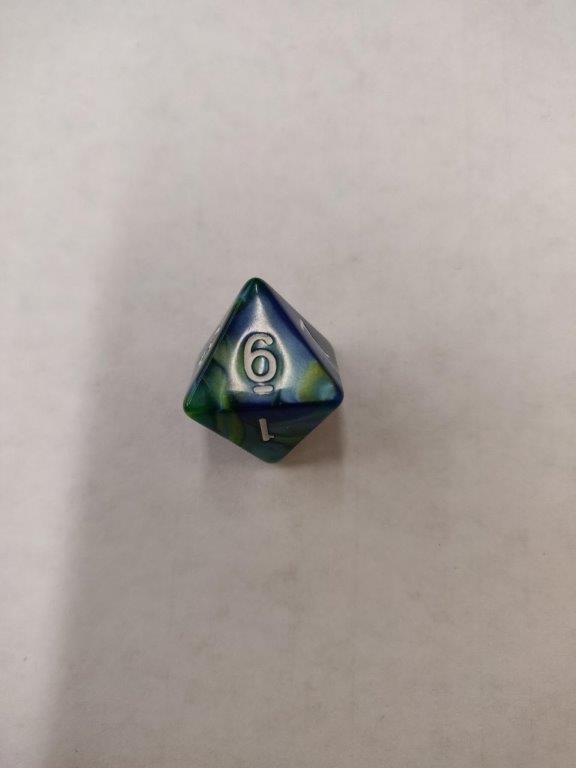d8-6: (180, 275, 345, 467)
